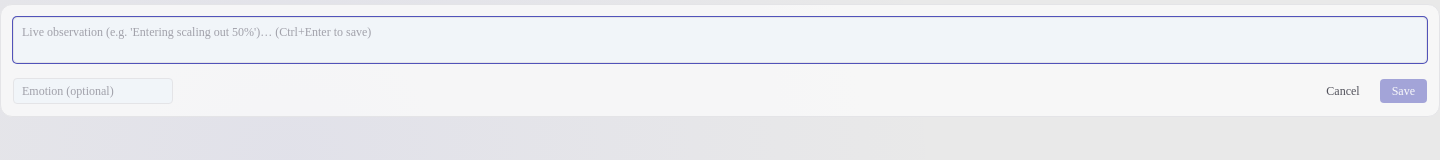
Test: QuickNoteInput › Save button is enabled when textarea has non-empty content
Type "A note" into the text box with placeholder "Live observation" at x=720, y=40, box [13,17,1427,63]
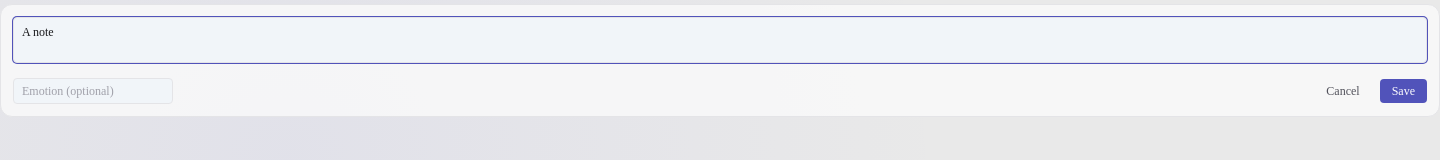
Now the button "Save" is enabled, box [1380,79,1427,103]
